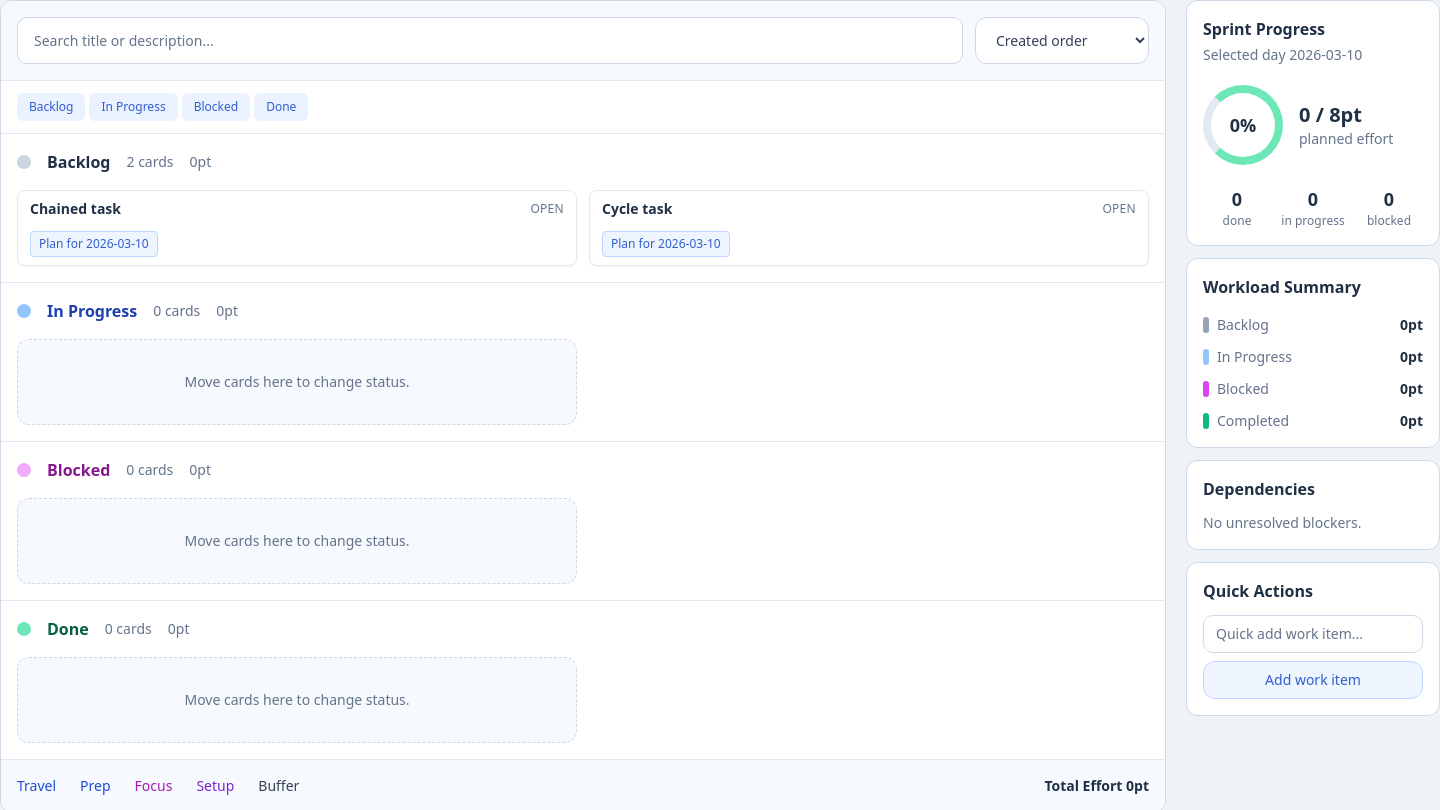
Test: KanbanBoard › shows chain depth and cycle badges
Step 1. Click the button with aria-label "expand chained task" → [76, 208], box [30,199,564,219]
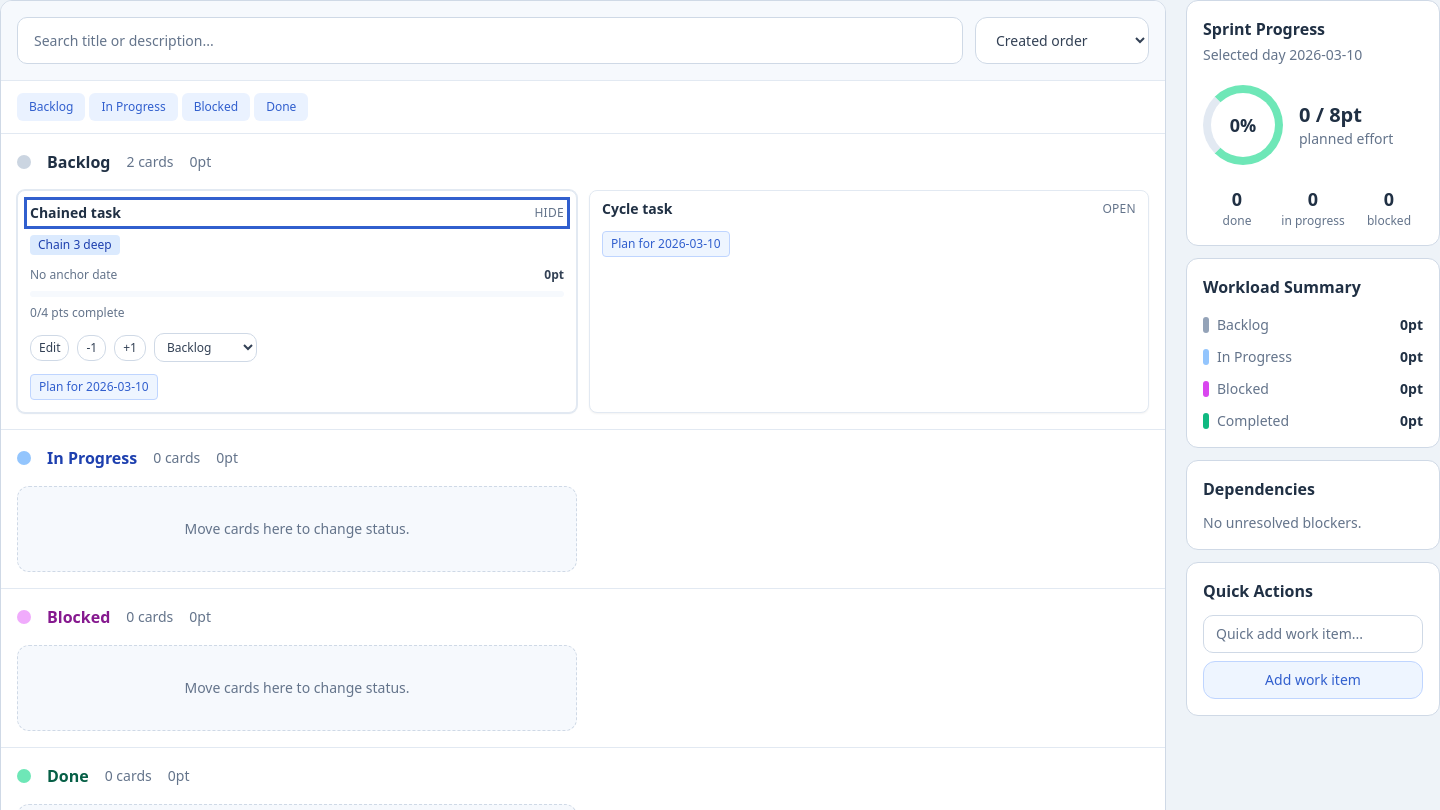
Expected: the text "Chain 3 deep" is shown, [30,235,120,255]
Step 2. Click the button with aria-label "expand cycle task" → [637, 208], box [602,199,1136,219]
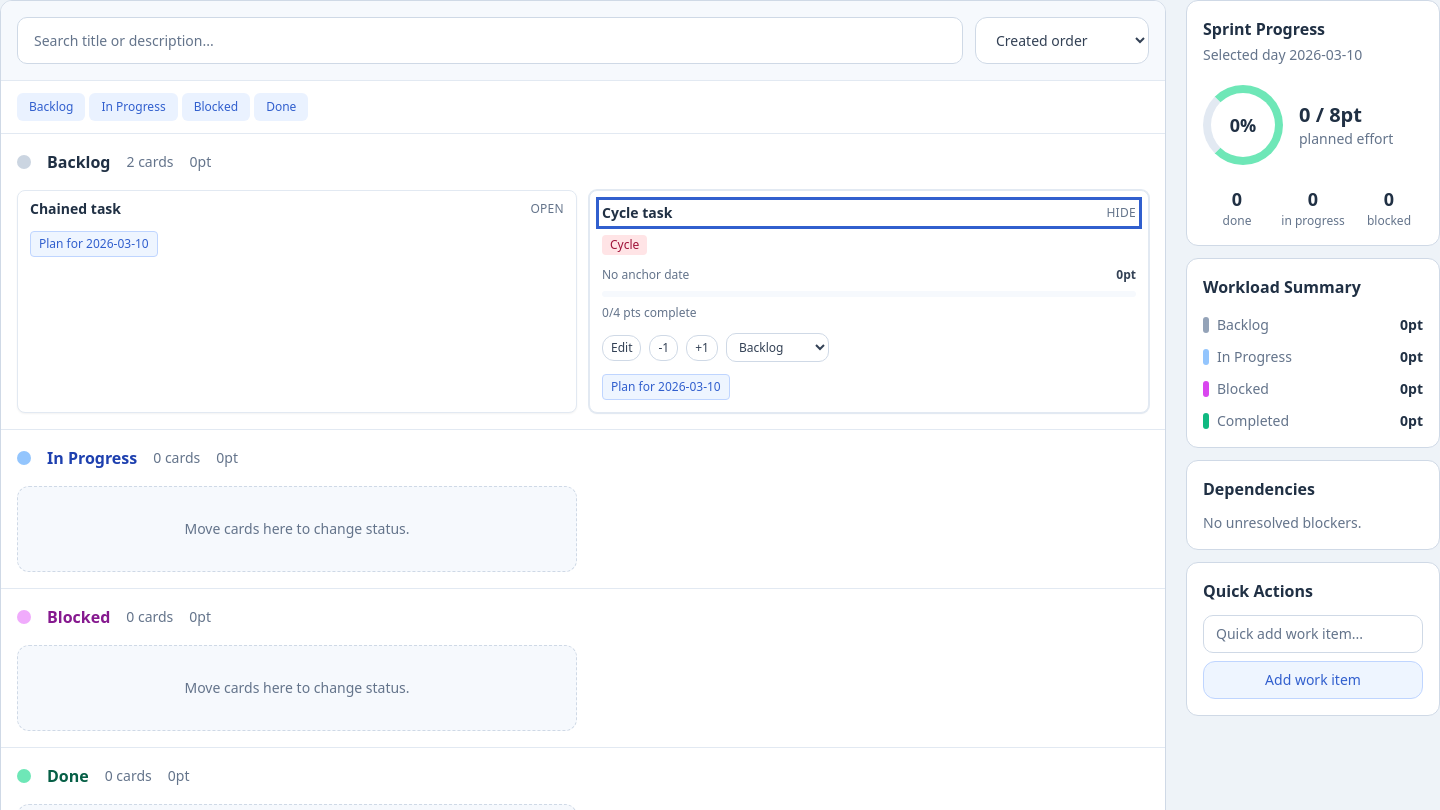
Expected: the text "Cycle" is shown, [602,235,647,255]
